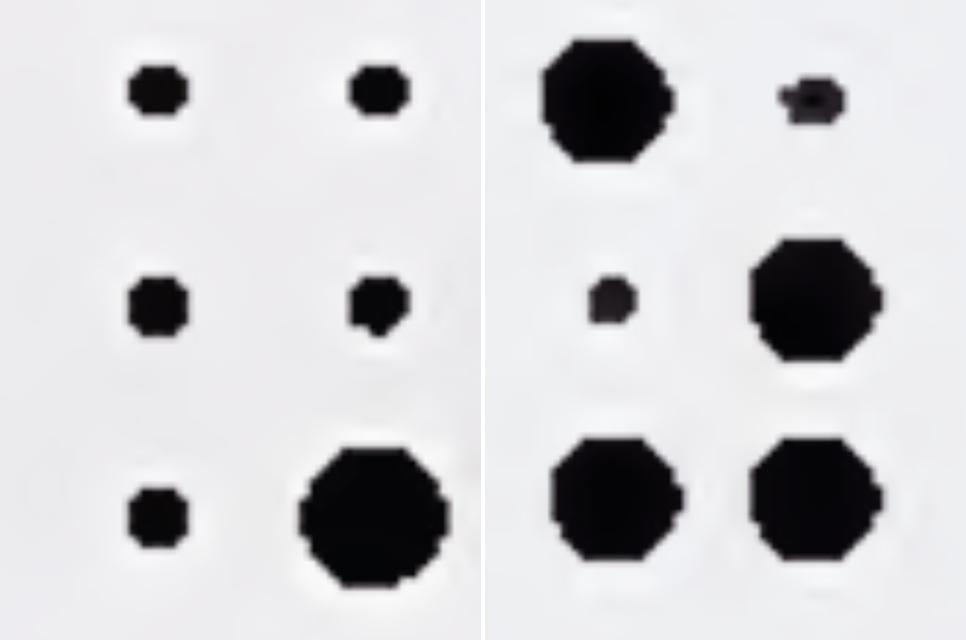capital_sign: (122, 55, 453, 589)
letter_Z: (542, 36, 887, 566)
